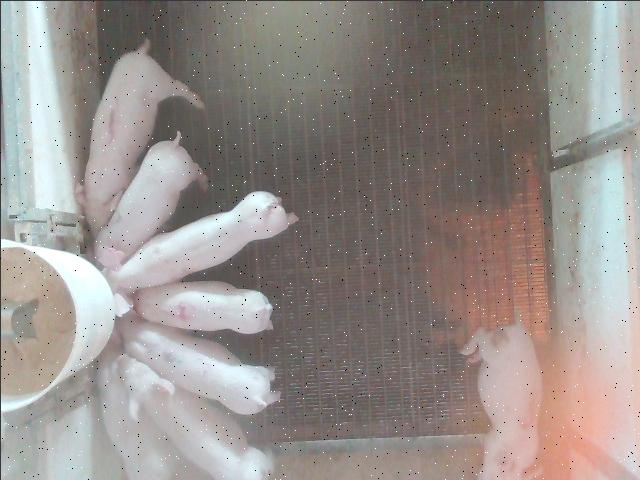pig-1: (74, 39, 202, 236)
pig-3: (460, 322, 541, 478)
pig-4: (132, 280, 271, 332)
